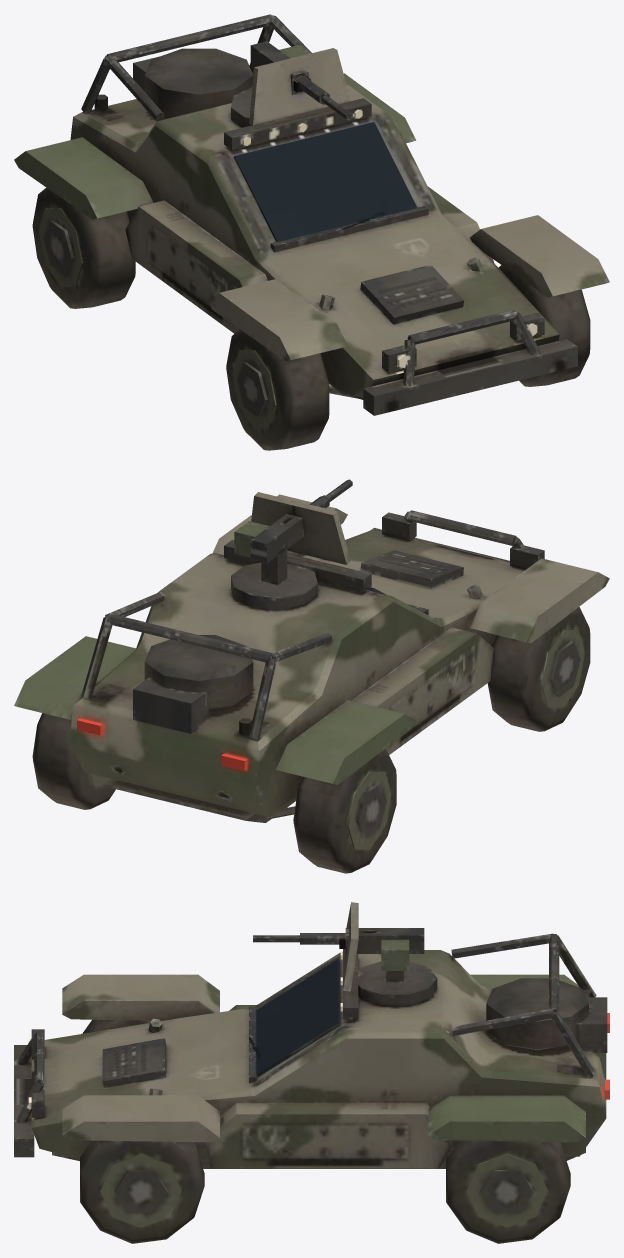
Rendered from hs_buggy_lod1.glb.
3 renders of one model, top to bottom at view 1: azimuth 30°, elevation 25°; view 2: azimuth 150°, elevation 25°; view 3: azimuth 270°, elevation 25°, orthographic. The views are drawn at different scales.
Size of the model in its own units: 2.74 by 2.22 by 4.69.
1 material, 1 textured.
